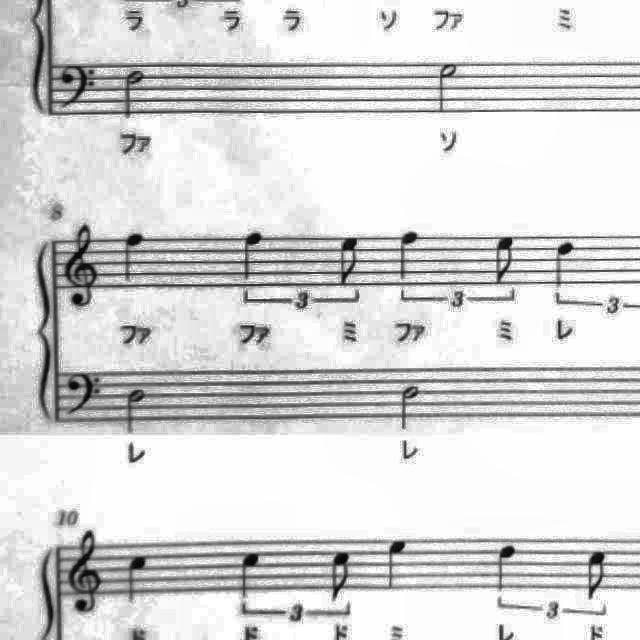Bass-clef: (61, 367, 107, 429), (56, 57, 104, 115)
Eighth-note: (323, 544, 361, 612), (579, 544, 617, 604), (332, 232, 368, 292), (488, 230, 522, 290)
Half-note: (432, 58, 468, 119), (118, 64, 152, 124), (120, 383, 152, 439), (396, 382, 428, 436)
Quarter-note: (232, 544, 272, 608), (378, 532, 414, 598), (489, 536, 526, 598), (118, 226, 154, 288), (546, 234, 582, 294), (392, 224, 428, 284), (235, 226, 271, 286), (122, 548, 156, 608)
Treble-clef: (64, 522, 110, 620), (58, 220, 105, 312)
